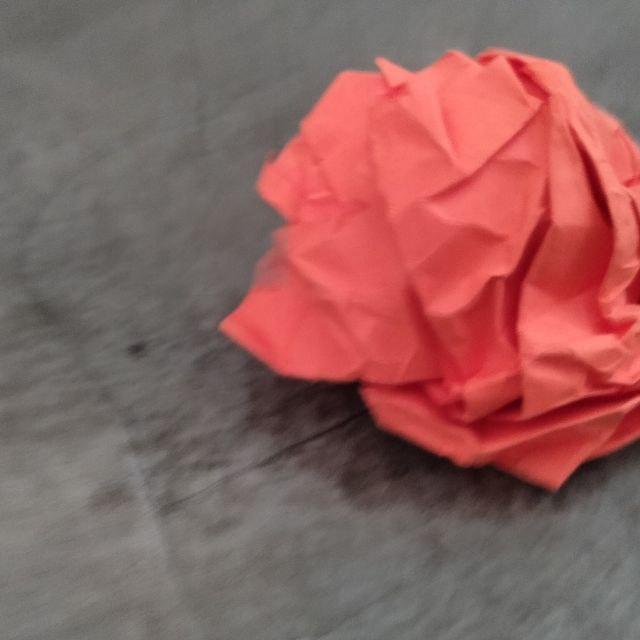paper: (212, 10, 640, 539)
